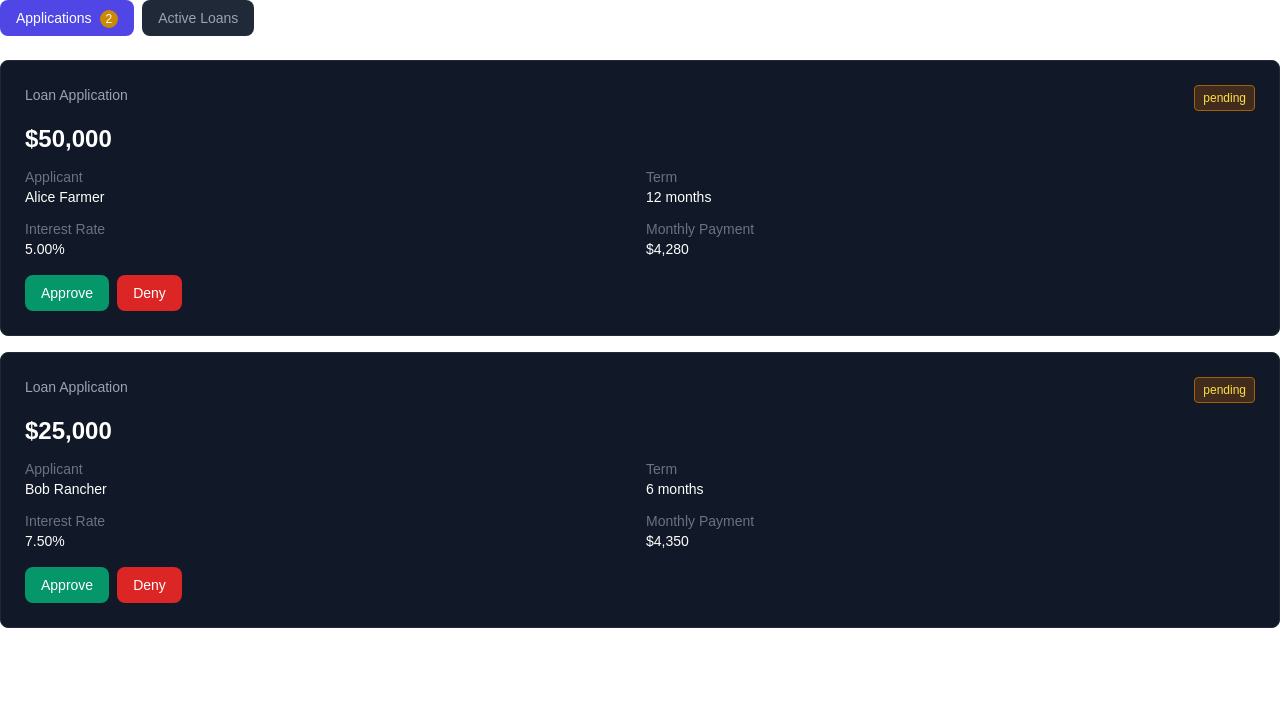
it: BankOwnerPanel › shows error when deny submitted without reason
Expected: the text "Alice Farmer" is shown, [25, 189, 104, 205]
Click the button "Deny" below "5.00": click(150, 293) [117, 275, 182, 311]
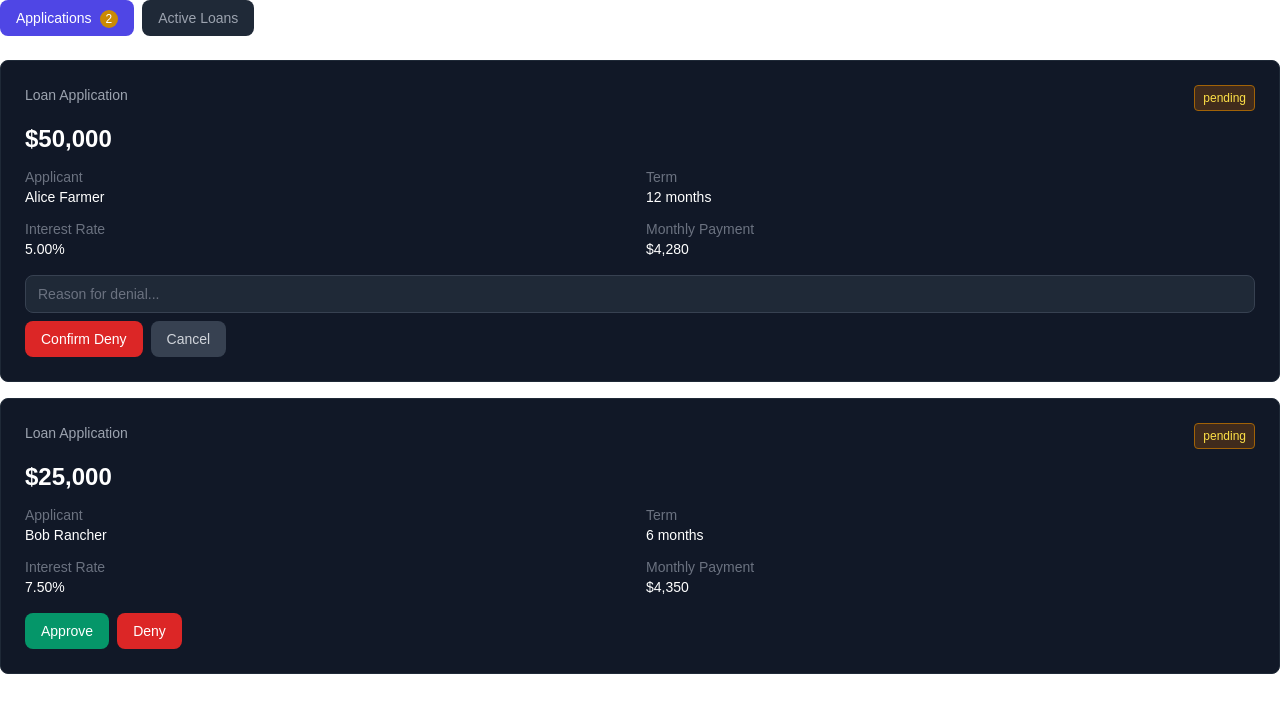
Click the button "Confirm Deny": click(84, 339) [25, 321, 143, 357]
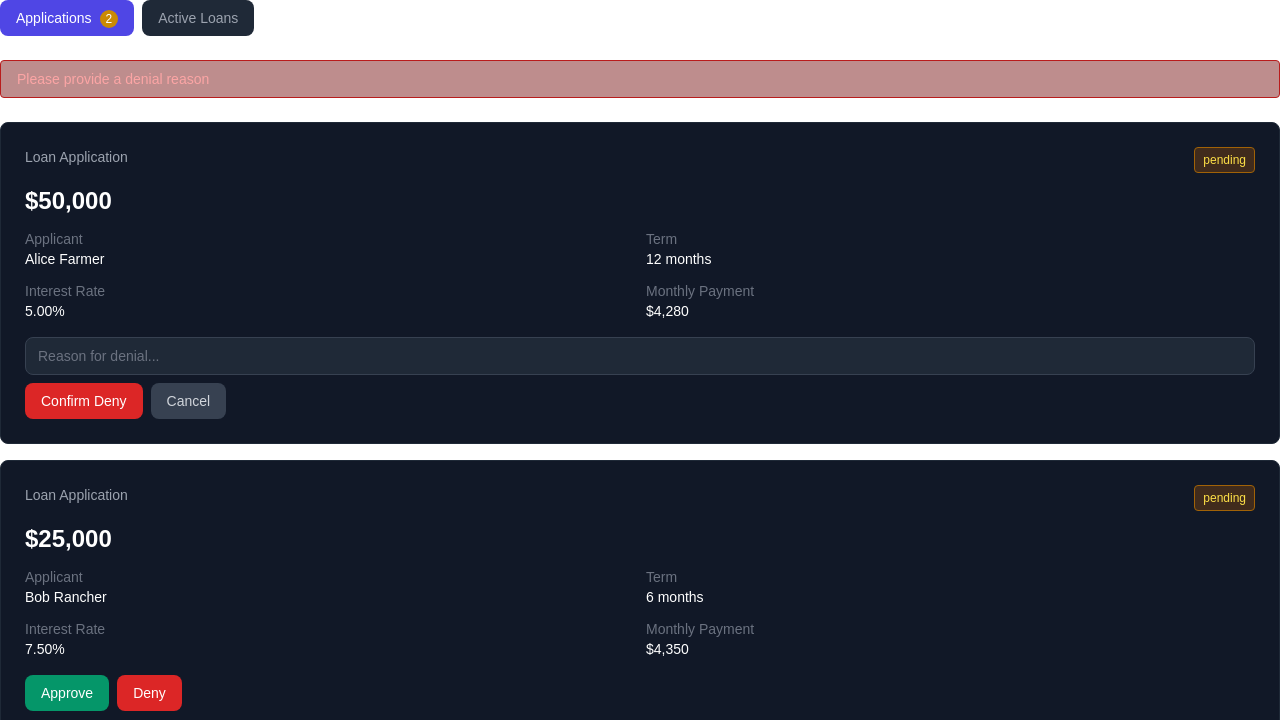
Expected: the text "Please provide a denial reason" is shown, [0, 60, 1279, 98]
